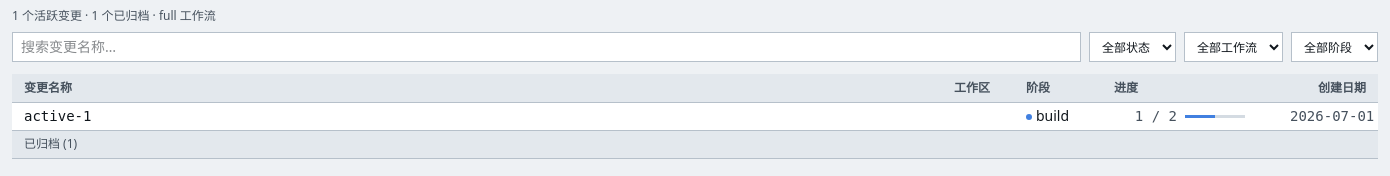
ChangeExplorer › filters by status using the status select, spanning both active and archived groups
The width and height of the screenshot is (1390, 176).
Select "已归档" in the dropdown named "状态": (1132, 47) [1089,32,1176,62]
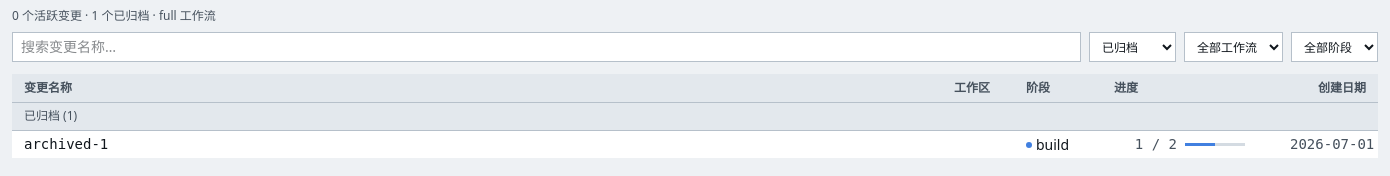
Check: the button "active-1" is gone
Check: the text "archived-1" is shown, box [12,130,942,158]
